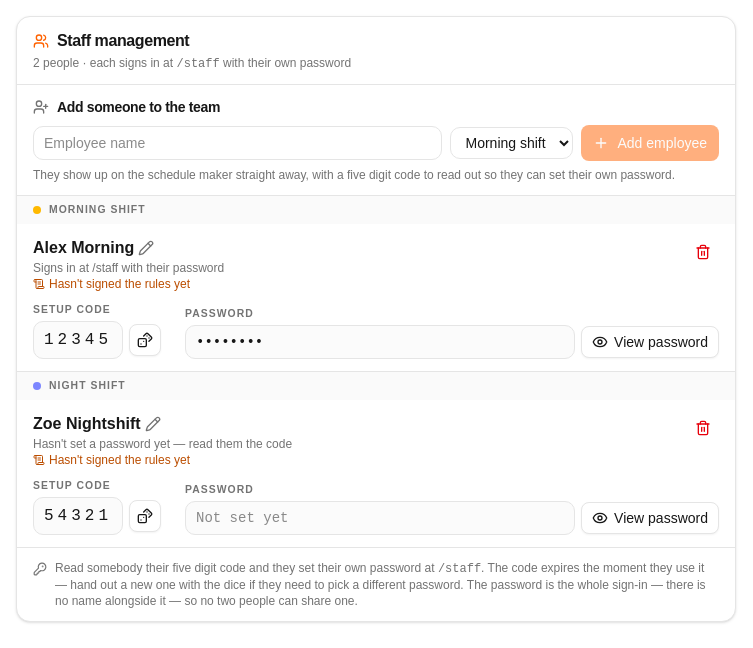
Test case: StaffManagement renaming › keeps the box open with the error when the save fails
This screenshot has width=753, height=648.
Click the button named "Edit Alex Morning's name" at [146, 248], box [138, 240, 154, 256]
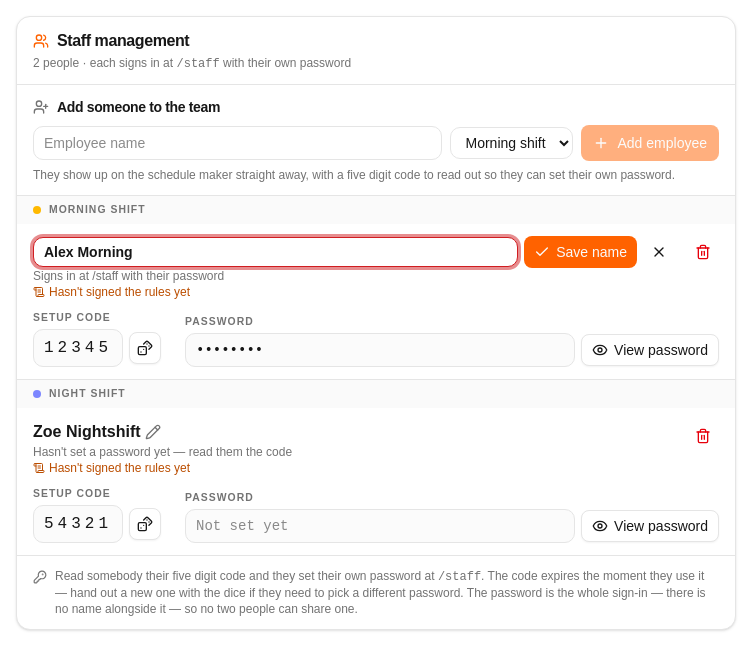
Replace the text in the field named "New name for Alex Morning" with "Alexandra Morning" at [276, 252], box [33, 237, 518, 267]
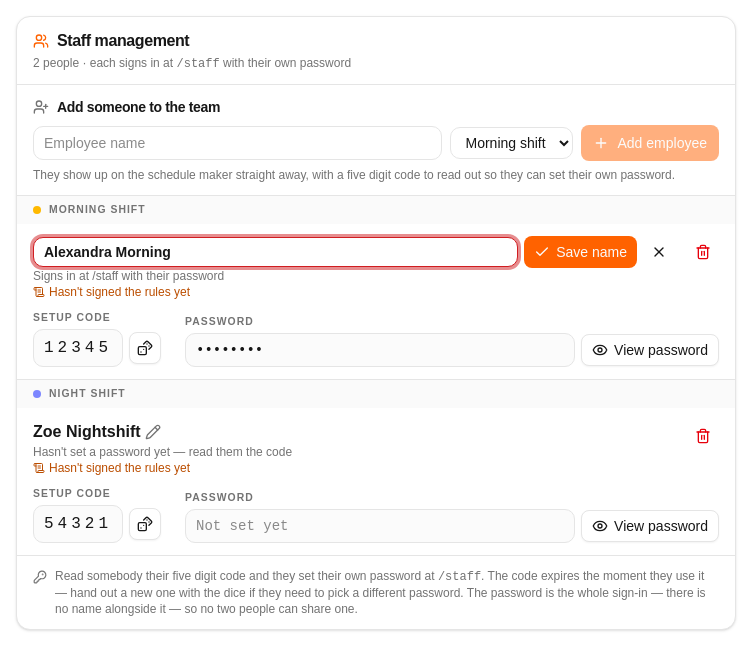
Click the button "Save name" at [581, 252], box [524, 236, 637, 268]
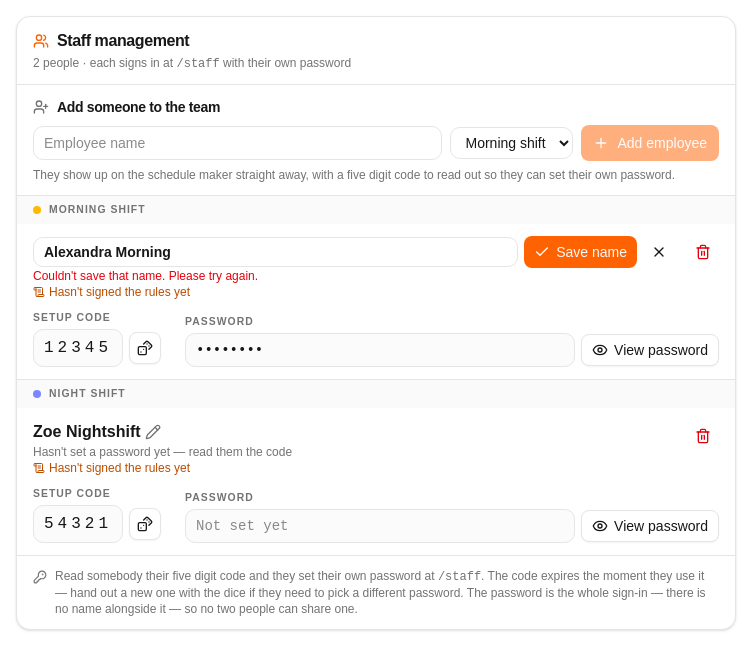
Result: the message shows "Couldn't save that name" at [33, 269, 258, 283]
